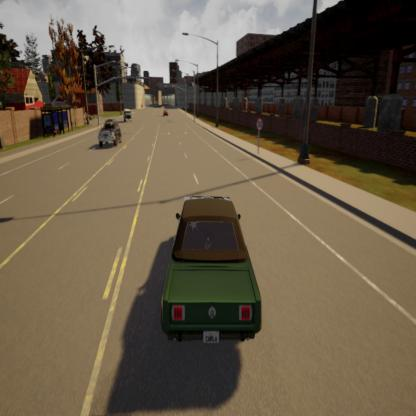Cars: (154, 165, 268, 359), (97, 115, 124, 152), (120, 104, 133, 124), (162, 107, 167, 116)
